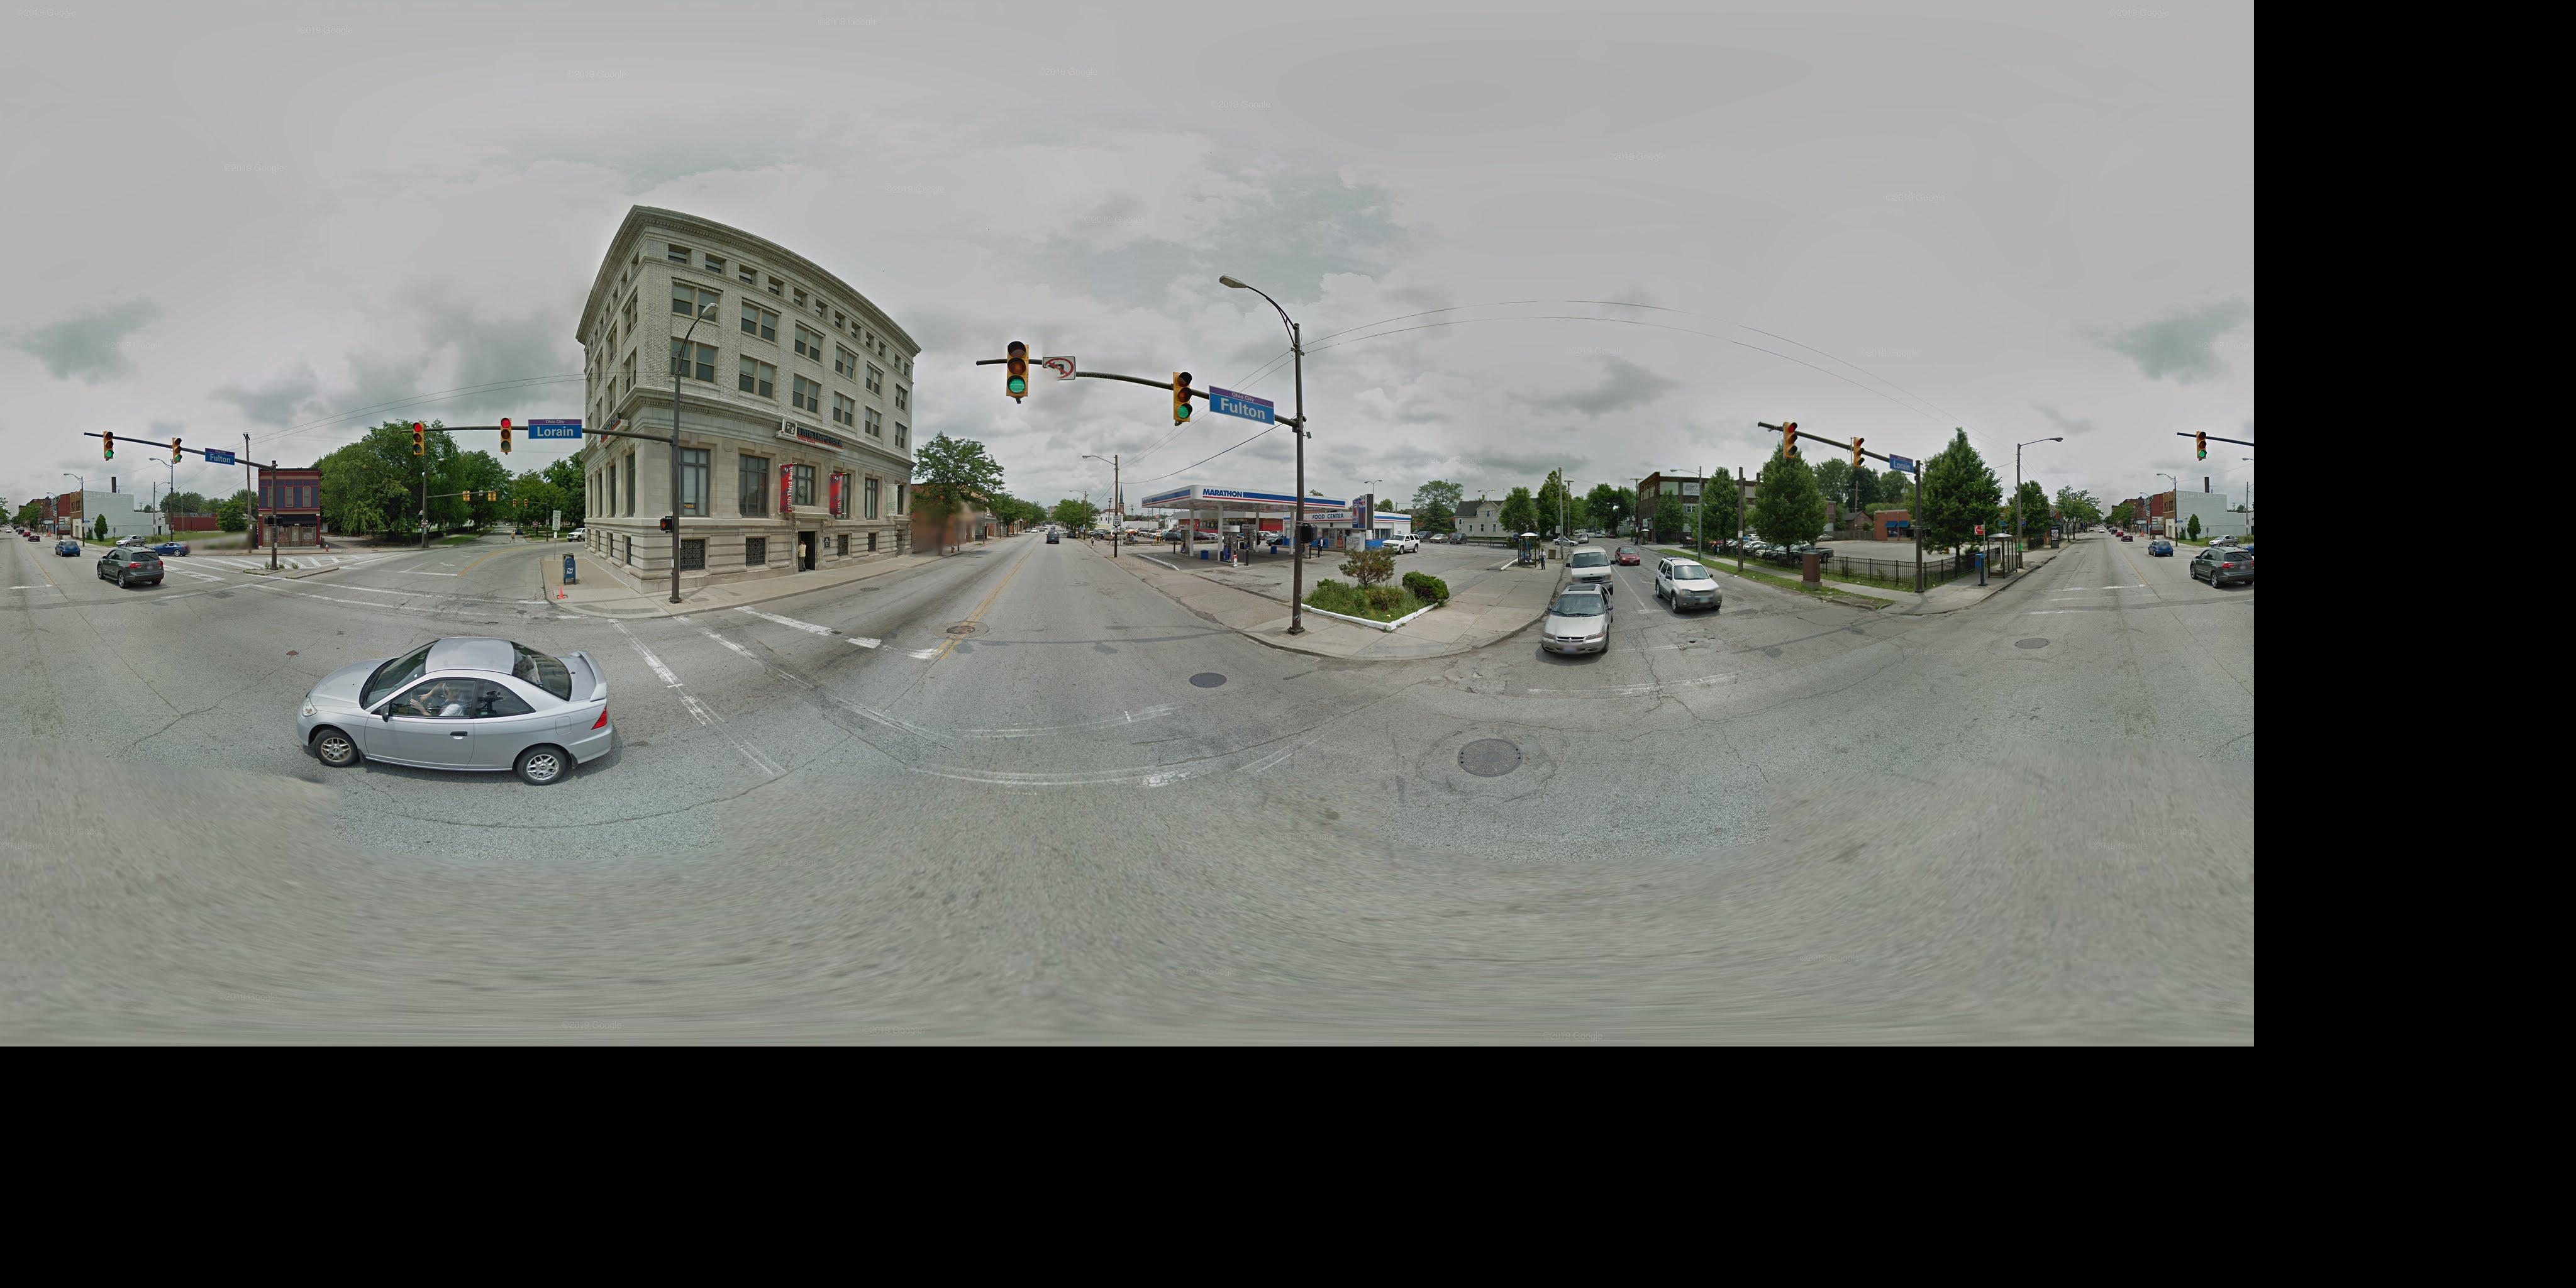Curb Ramp: (1339, 634, 1482, 674), (552, 593, 667, 634)
Irregular Ramp: (1884, 598, 1924, 621), (1934, 601, 1976, 619)
